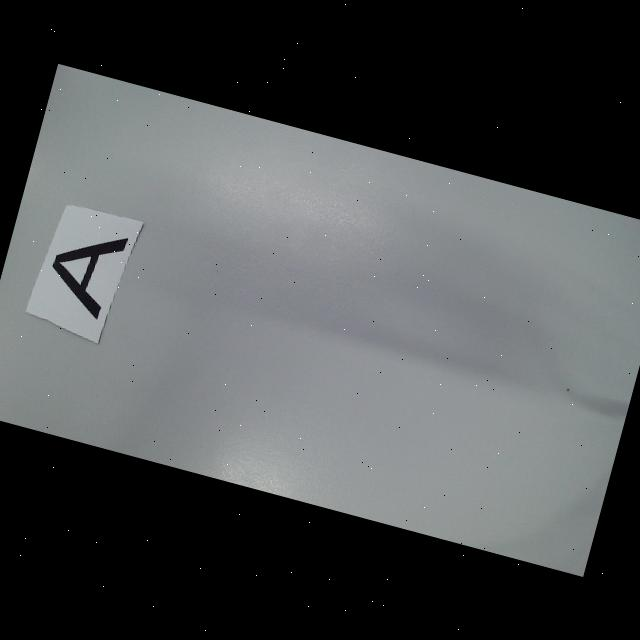FAKE: (40, 218, 130, 322)
